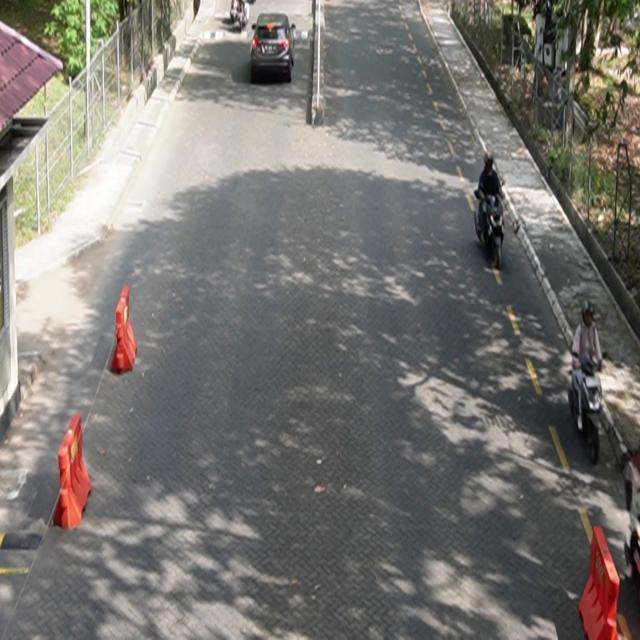car: (251, 13, 297, 84)
